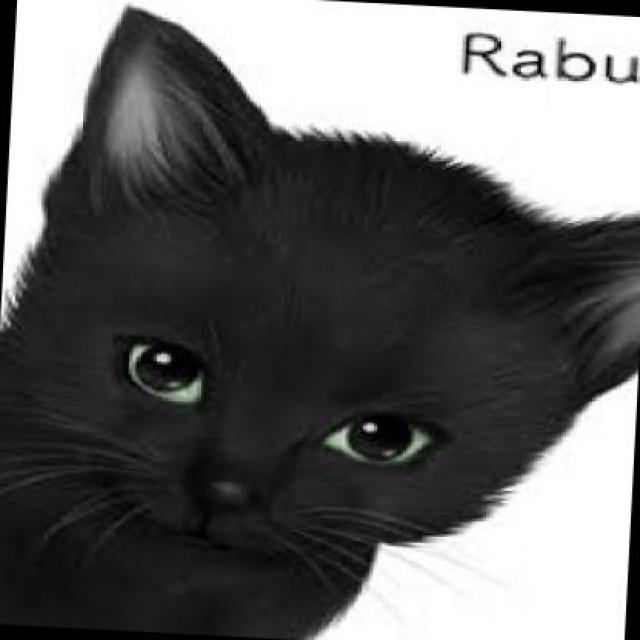animals: (1, 51, 638, 640)
